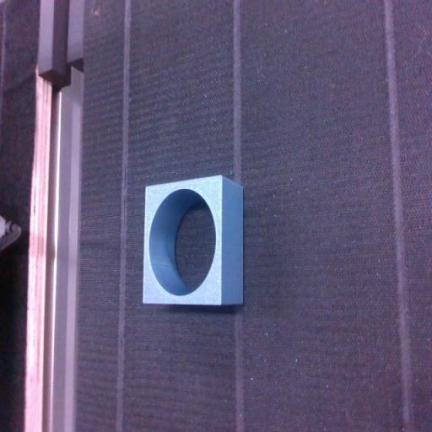square: (144, 176, 242, 305)
